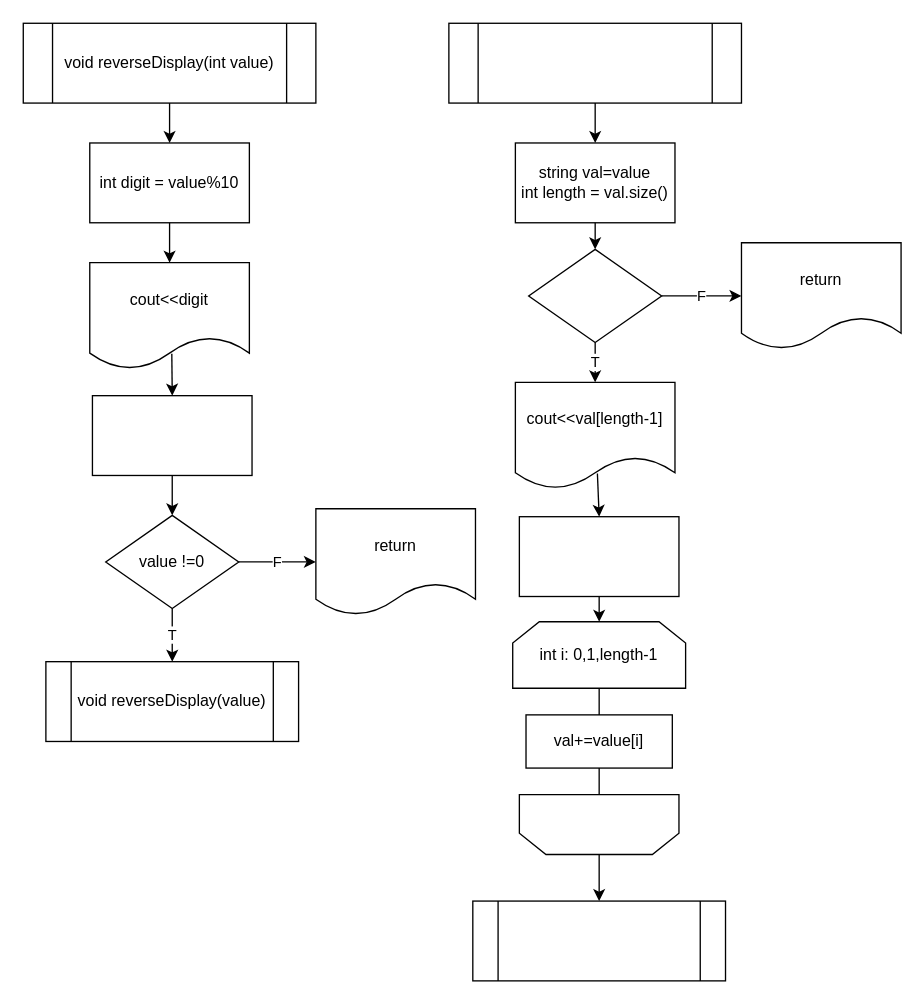
The diagram is 924 pixels wide and 1004 high, and some of its shapes have lost their labels. The centre of each missing label's shape, as x and y in pixels:
length-- val=" ": point (598, 556)
length>0: point (594, 295)
value/=10: point (171, 434)
void reverseDisplay (const string value): point (594, 62)
void reverseDisplay(val): point (598, 940)
